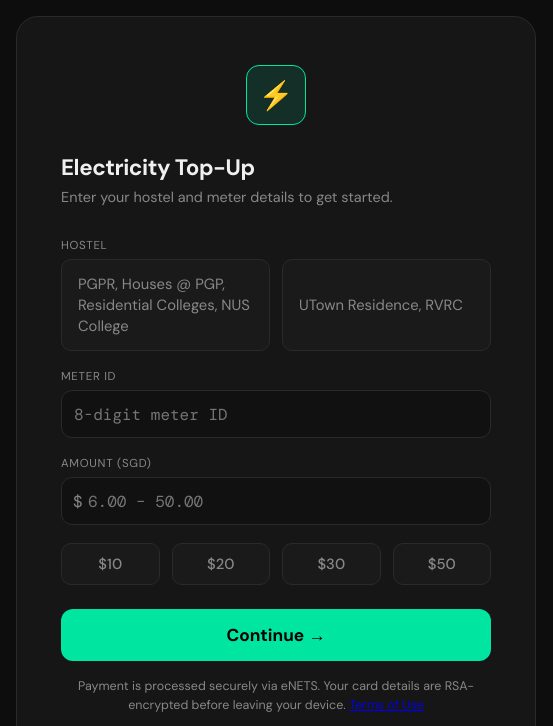
HomePage › validation › meter ID field strips non-numeric characters
In the field with placeholder "8-digit meter ID": (276, 414) [61, 390, 491, 438], type "abc12345xyz"
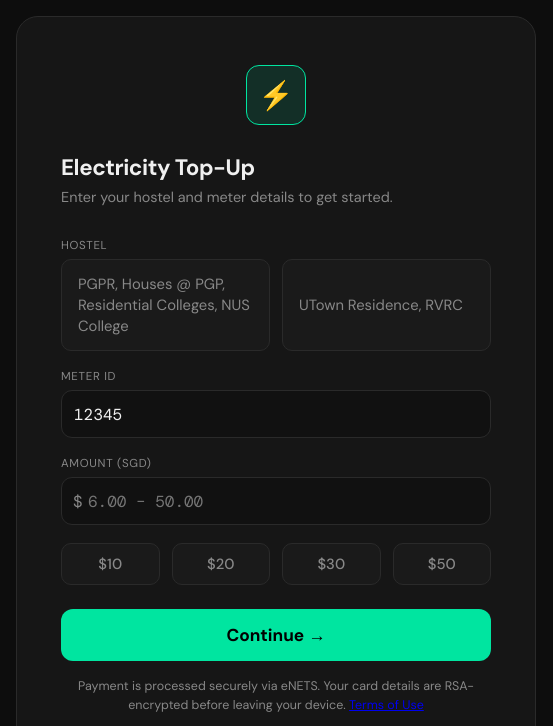
Expected: the field with placeholder "8-digit meter ID" holds "12345", [61, 390, 491, 438]
